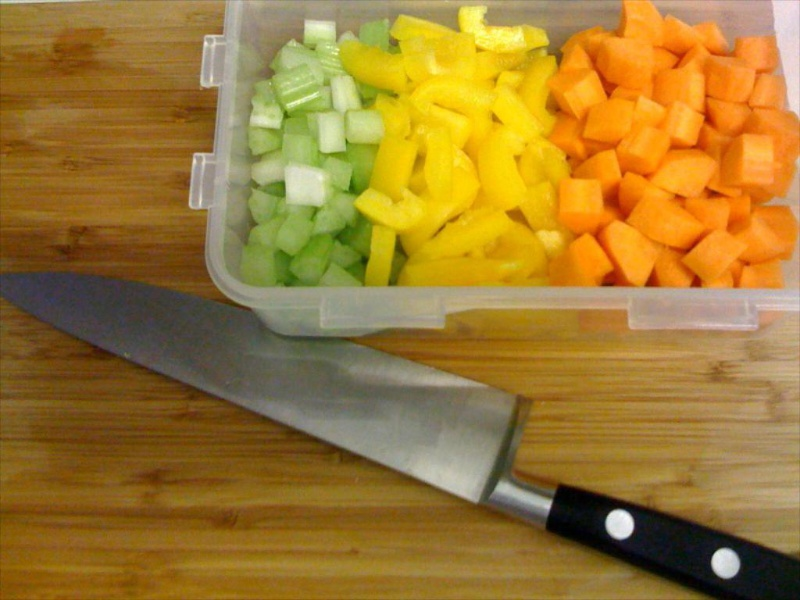knife: (1, 270, 797, 600)
